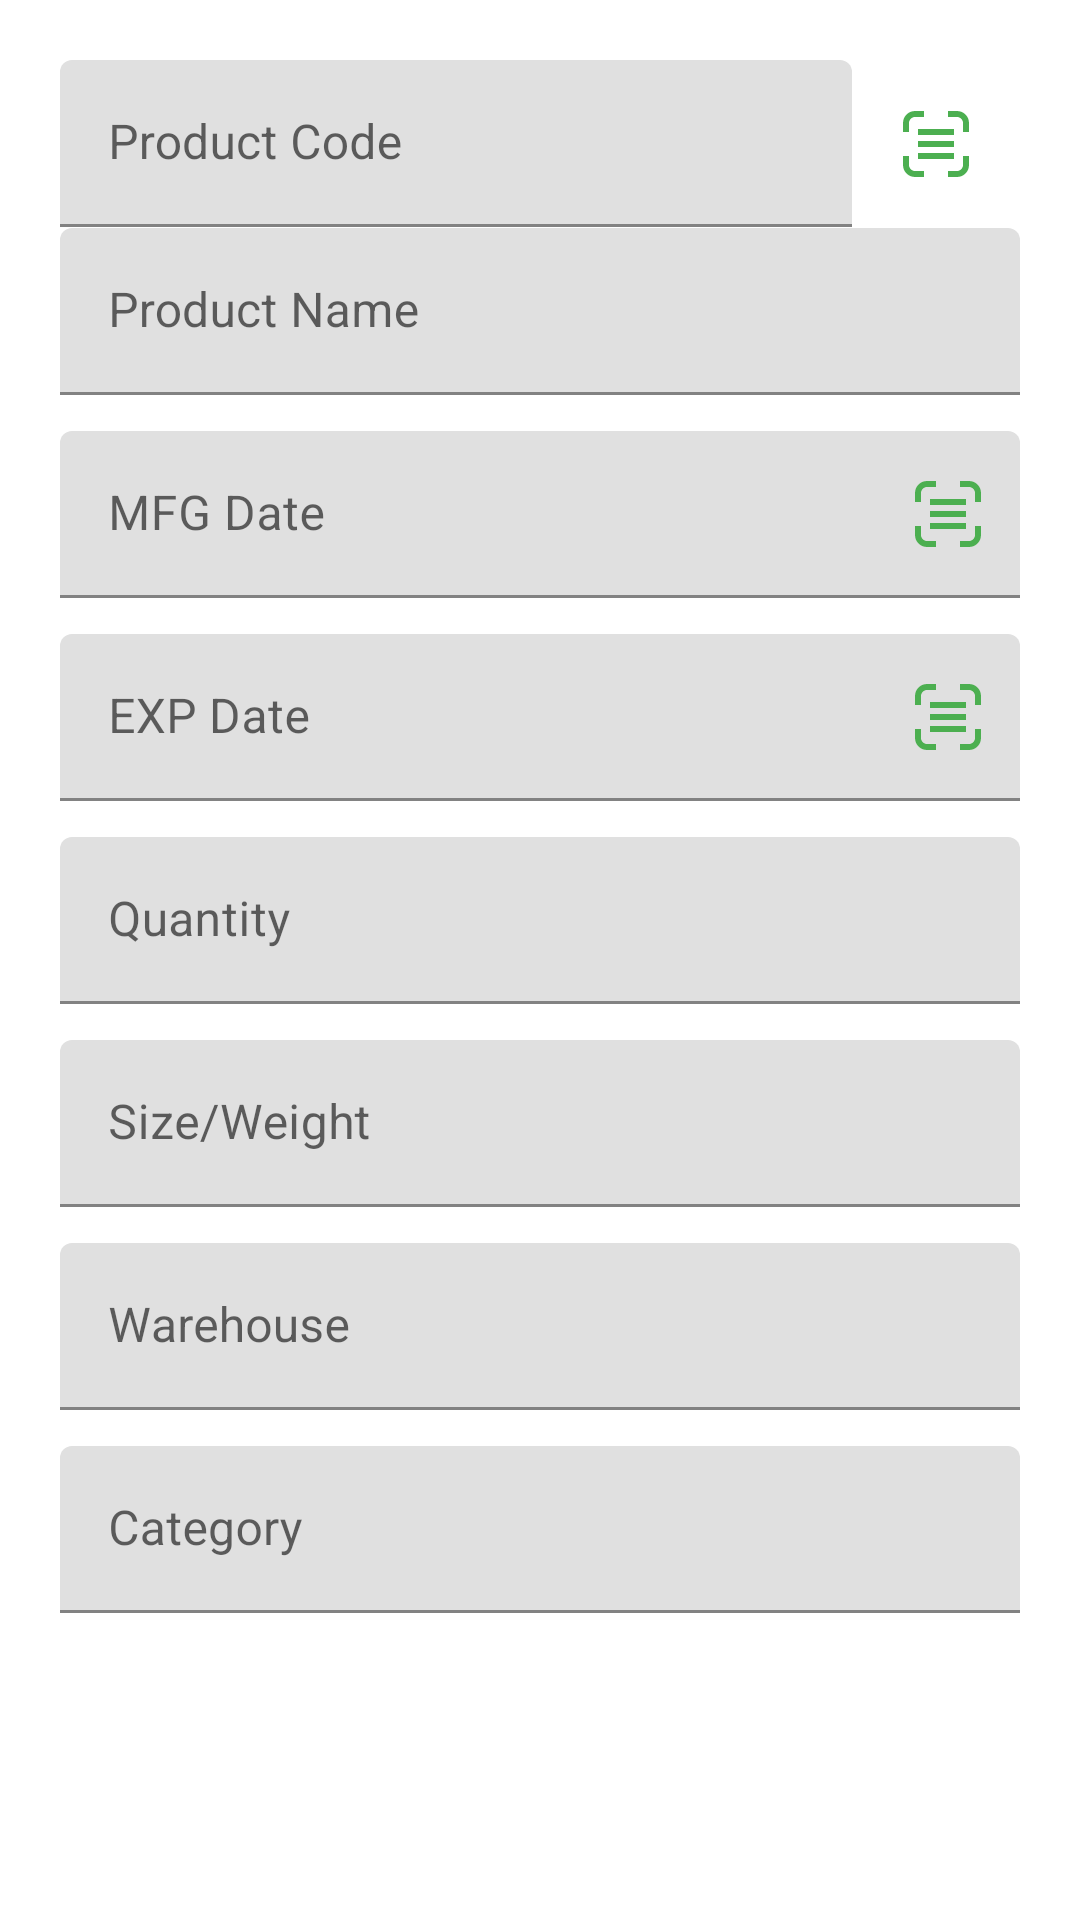

Point at icon controls on the screen. Image size 1080 x 1920, points as [x,y].
Scan Barcode: [936,144]
